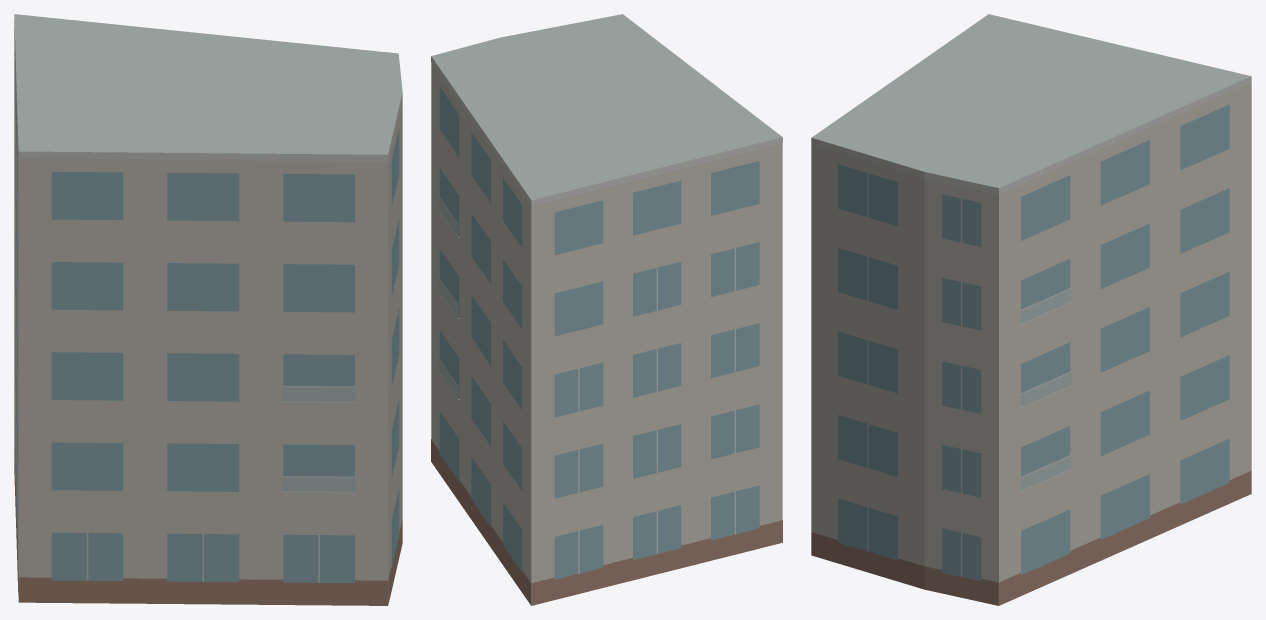
File: survey-upis-32470528.glb
3 views of the same model, side by side, from view 1: azimuth 30°, elevation 25°; view 2: azimuth 150°, elevation 25°; view 3: azimuth 270°, elevation 25° (orthographic). The views are drawn at different scales.
Visible parts, largest first — view 1: survey-upis-32470528.tmp; view 2: survey-upis-32470528.tmp; view 3: survey-upis-32470528.tmp.
Boxes of the visible parts, left/top/right/bottom form: survey-upis-32470528.tmp: left=14, top=14, right=402, bottom=605; survey-upis-32470528.tmp: left=431, top=14, right=782, bottom=605; survey-upis-32470528.tmp: left=811, top=14, right=1251, bottom=605.
Bounding box in the file's own units: 14.32 × 16 × 15.29.
